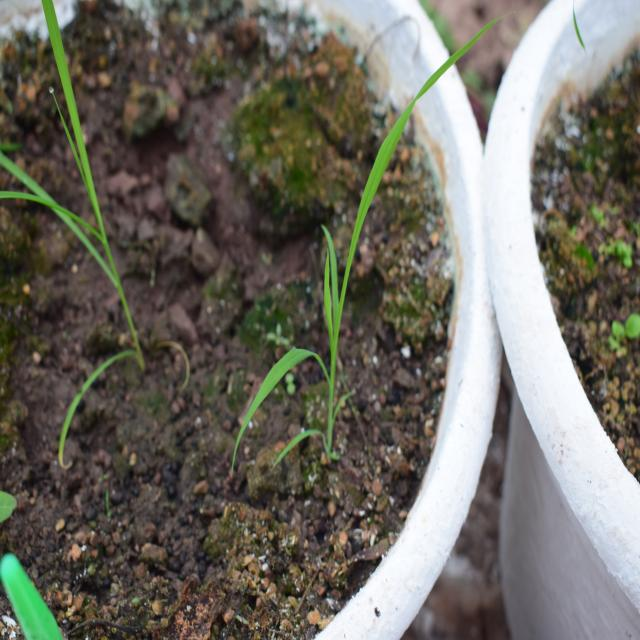barnyard_grass: (211, 6, 450, 460)
